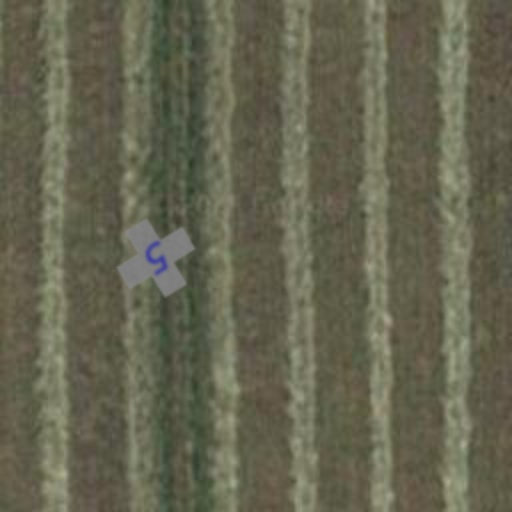cross: (102, 204, 210, 312)
